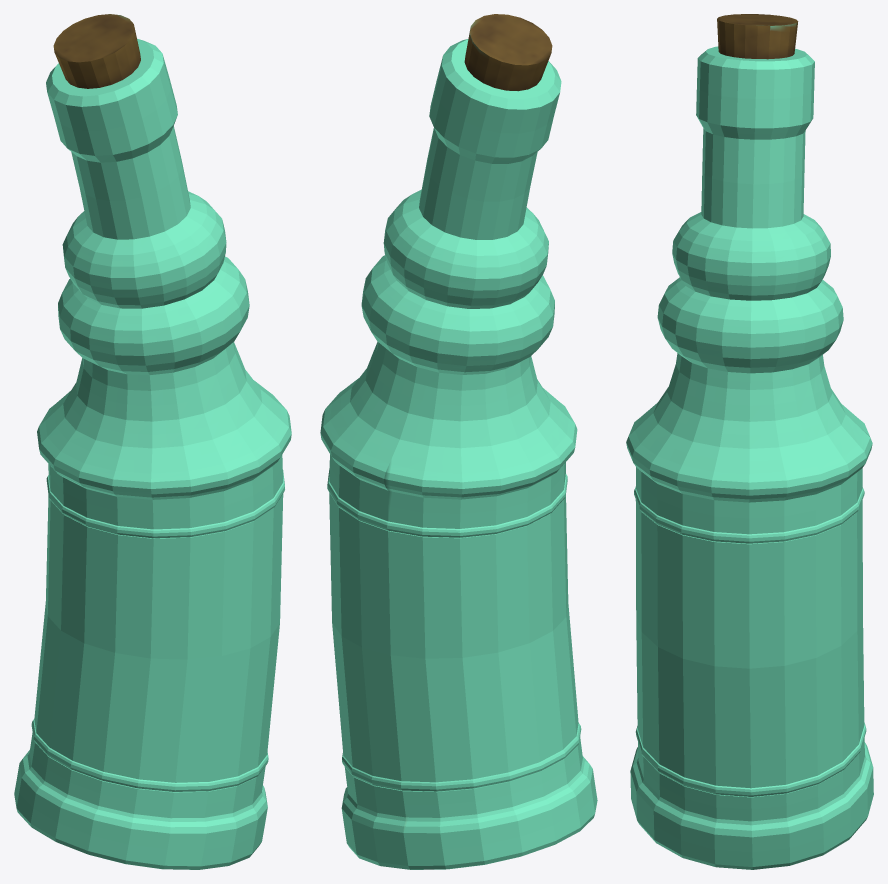
File: bend_low_0.obj
The picture shows the model from 3 angles, left to right: view 1: azimuth 30°, elevation 25°; view 2: azimuth 150°, elevation 25°; view 3: azimuth 270°, elevation 25°; orthographic projection. The views are drawn at different scales.
Parts seen in each view (by area): view 1: model; view 2: model; view 3: model.
Part boxes in pixels (x1,y1,x2,y2): model: [14, 14, 291, 869]; model: [320, 14, 597, 869]; model: [626, 14, 873, 869].
Size of the model in its own units: 0.0793 by 0.2569 by 0.0728.
Materials: 1 (1 with a texture image).
